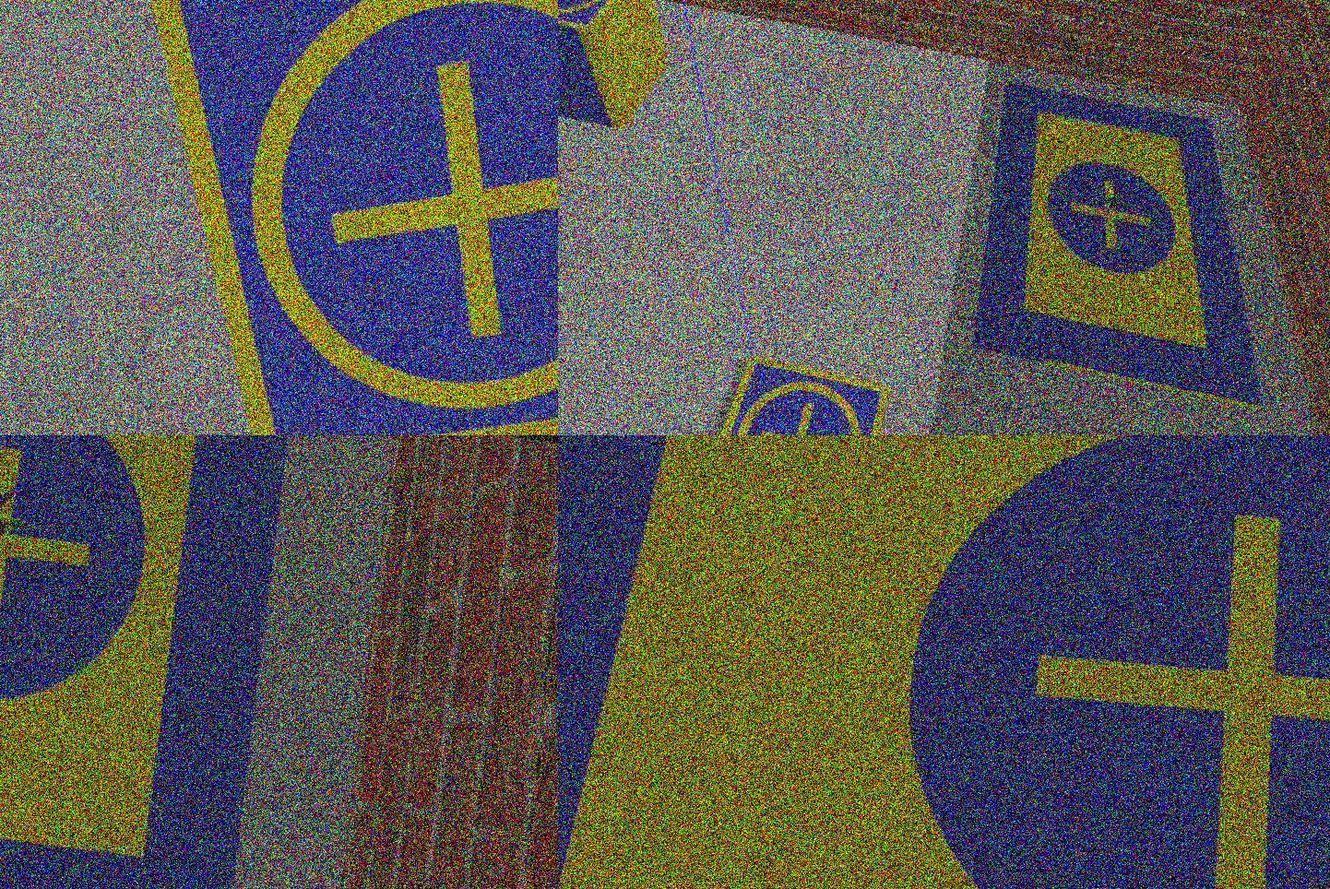large_base: (558, 435, 1330, 889), (1, 435, 292, 889), (966, 77, 1302, 413)
small_base: (81, 1, 558, 435), (690, 352, 892, 435)
